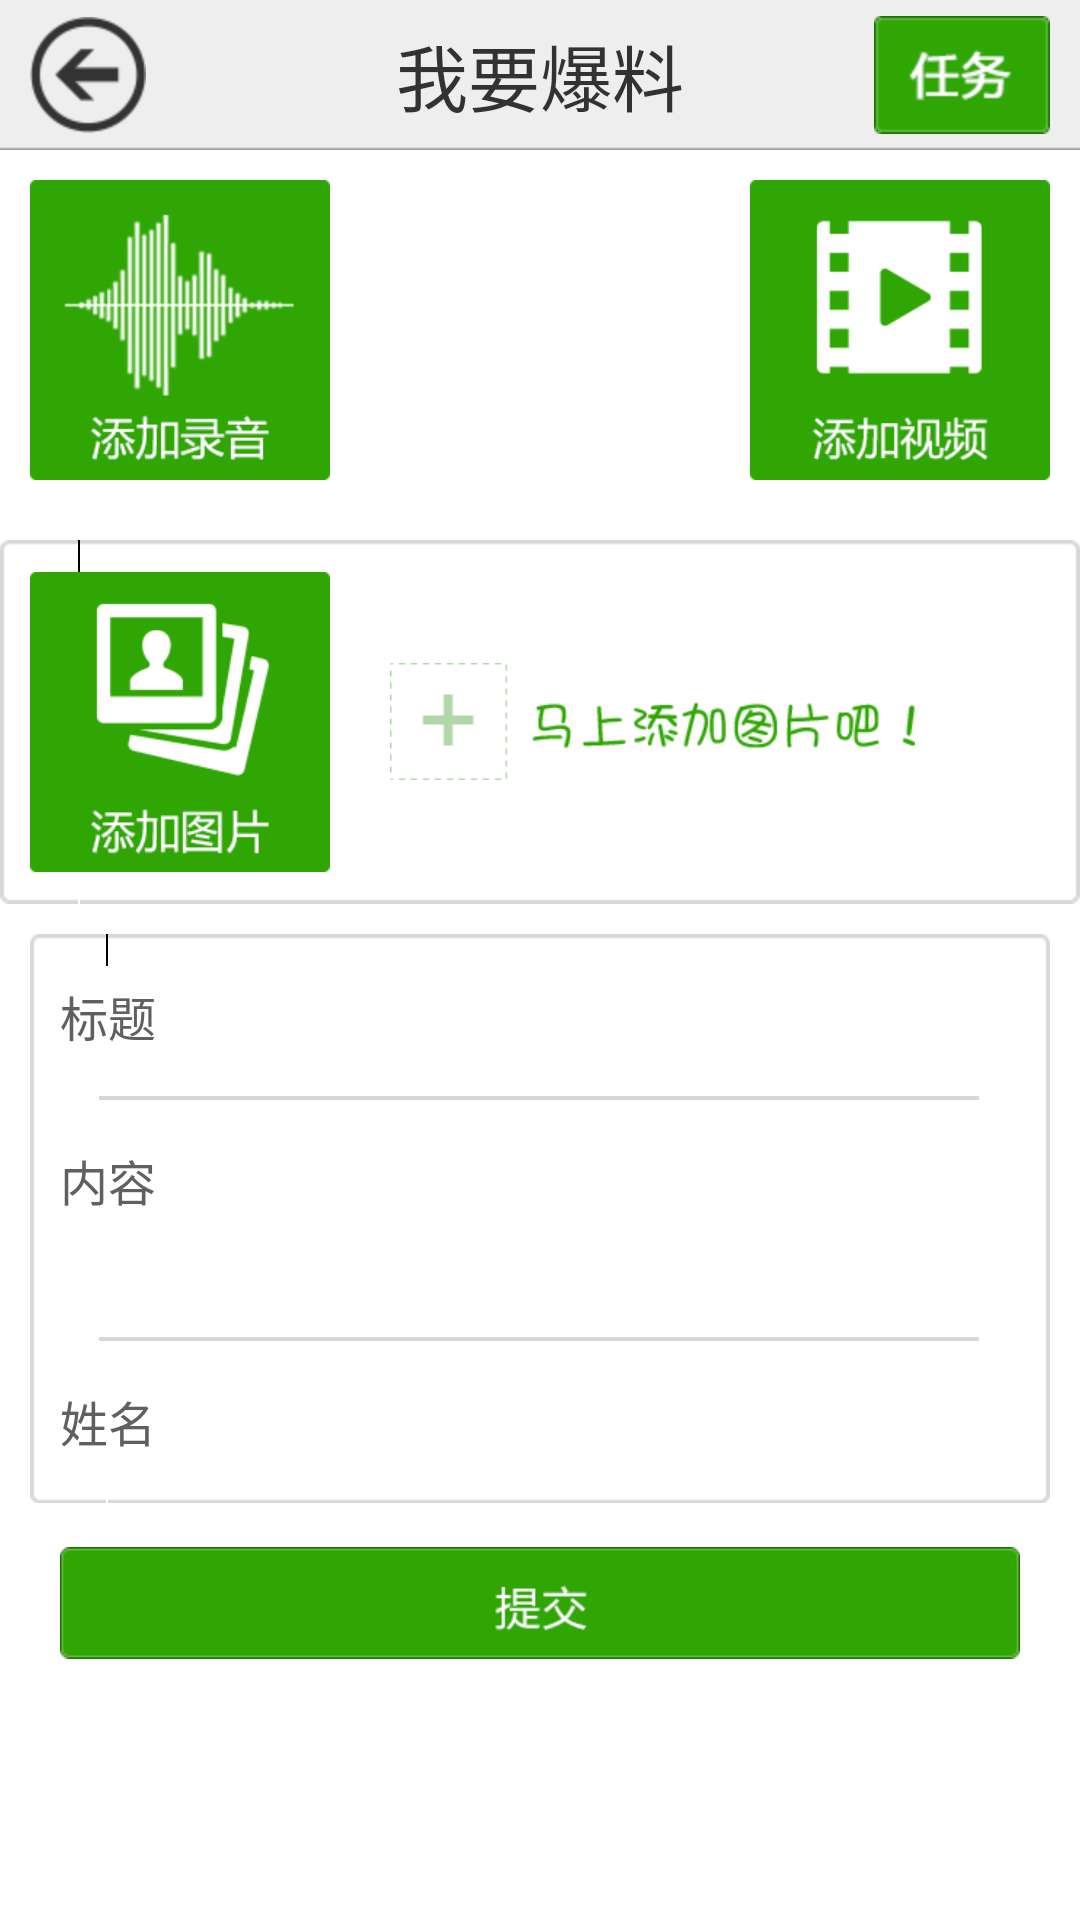

Named icons in this screenshot (1080 x 1920) and their centers, point (x, y):
back: point (88, 75)
